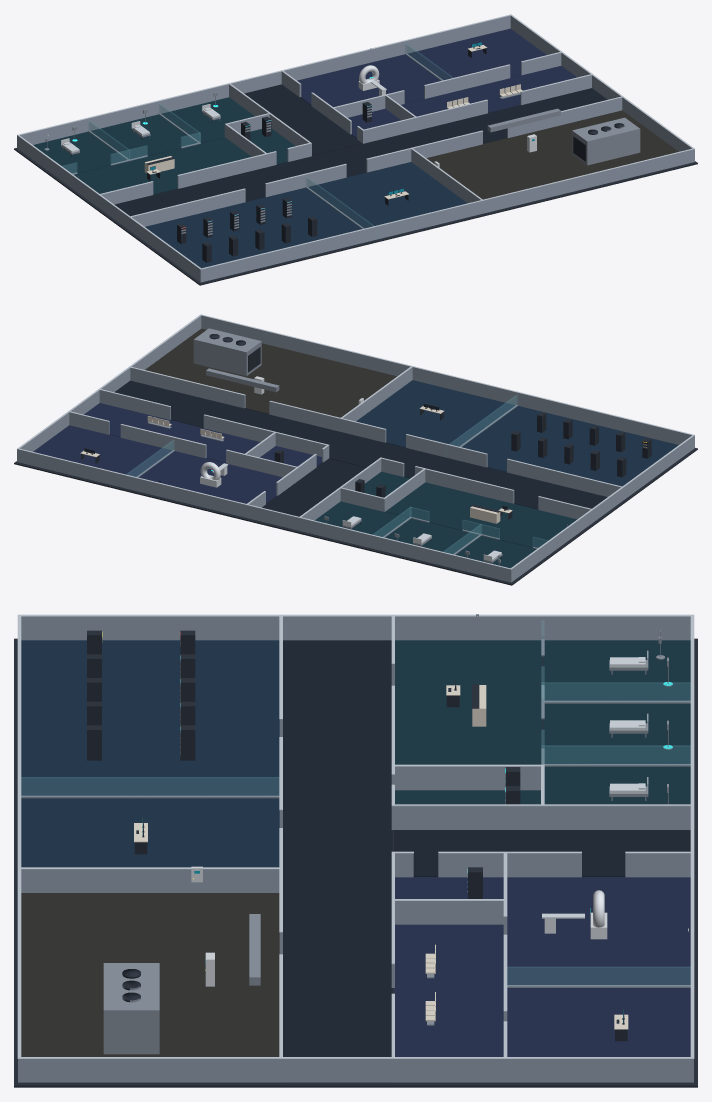
The model's file is hospital.glb.
The picture shows the model from 3 angles, top to bottom: view 1: azimuth 30°, elevation 25°; view 2: azimuth 150°, elevation 25°; view 3: azimuth 270°, elevation 25°; orthographic projection. The views are drawn at different scales.
Visible parts, largest first — view 1: ARCH_Walls_Solid, ROOM_BMS-PLANT-ROOM, ROOM_CORRIDOR-MAIN, ROOM_DC-SERVER-ROOM, ROOM_DC-SECURITY-OFFICE, ROOM_ICU-NURSE-STATION, ROOM_IMG-CT-ROOM, ROOM_IMG-READING, ROOM_CORRIDOR-NORTH, ARCH_Walls_Glass, ROOM_IMG-WAITING, ROOM_ICU-BAY-2 (+7 smaller); view 2: ARCH_Walls_Solid, ROOM_CORRIDOR-MAIN, ROOM_BMS-PLANT-ROOM, ROOM_DC-SERVER-ROOM, ROOM_DC-SECURITY-OFFICE, ROOM_ICU-NURSE-STATION, ROOM_IMG-CT-ROOM, ROOM_IMG-READING, ARCH_Walls_Glass, ROOM_IMG-WAITING, ROOM_CORRIDOR-NORTH, ARCH_BaseSlab (+9 smaller); view 3: ARCH_Walls_Solid, ROOM_CORRIDOR-MAIN, ROOM_DC-SERVER-ROOM, ROOM_BMS-PLANT-ROOM, ROOM_IMG-CT-ROOM, ROOM_DC-SECURITY-OFFICE, ROOM_ICU-NURSE-STATION, ARCH_Walls_Glass, ROOM_IMG-WAITING, ROOM_IMG-READING, ROOM_ICU-BAY-2, ROOM_ICU-BAY-1 (+8 smaller).
Part boxes in pixels (box(x1,y1,x2,y2)): ARCH_Walls_Solid: box(17, 14, 694, 282); ROOM_BMS-PLANT-ROOM: box(426, 110, 690, 213); ROOM_CORRIDOR-MAIN: box(114, 88, 607, 216); ROOM_DC-SERVER-ROOM: box(145, 187, 373, 282); ROOM_DC-SECURITY-OFFICE: box(308, 162, 481, 239); ROOM_ICU-NURSE-STATION: box(74, 137, 251, 194); ROOM_IMG-CT-ROOM: box(297, 54, 440, 107); ROOM_IMG-READING: box(408, 28, 546, 79); ROOM_CORRIDOR-NORTH: box(244, 84, 362, 155); ARCH_Walls_Glass: box(57, 43, 457, 239); ROOM_IMG-WAITING: box(401, 65, 576, 116); ROOM_ICU-BAY-2: box(91, 114, 196, 159); ARCH_Walls_Solid: box(17, 314, 694, 582); ROOM_CORRIDOR-MAIN: box(114, 380, 607, 509); ROOM_BMS-PLANT-ROOM: box(145, 328, 396, 417); ROOM_DC-SERVER-ROOM: box(462, 406, 678, 486); ROOM_DC-SECURITY-OFFICE: box(356, 380, 515, 447); ROOM_ICU-NURSE-STATION: box(385, 482, 576, 547); ROOM_IMG-CT-ROOM: box(129, 451, 282, 518); ROOM_IMG-READING: box(21, 425, 171, 487); ARCH_Walls_Glass: box(123, 395, 552, 565); ROOM_IMG-WAITING: box(84, 403, 260, 462); ROOM_CORRIDOR-NORTH: box(249, 458, 365, 530); ARCH_BaseSlab: box(14, 448, 697, 585); ARCH_Walls_Solid: box(17, 614, 694, 1082); ROOM_CORRIDOR-MAIN: box(282, 640, 392, 1082); ROOM_DC-SERVER-ROOM: box(21, 640, 279, 795); ROOM_BMS-PLANT-ROOM: box(20, 893, 280, 1082); ROOM_IMG-CT-ROOM: box(507, 877, 690, 984); ROOM_DC-SECURITY-OFFICE: box(21, 798, 279, 867); ROOM_ICU-NURSE-STATION: box(395, 640, 542, 764); ARCH_Walls_Glass: box(21, 621, 690, 987); ROOM_IMG-WAITING: box(394, 924, 504, 1082); ROOM_IMG-READING: box(506, 988, 691, 1082); ROOM_ICU-BAY-2: box(543, 703, 690, 763); ROOM_ICU-BAY-1: box(543, 640, 690, 700).
Bounding box in the file's own units: 56.6 × 2.92 × 36.6.
